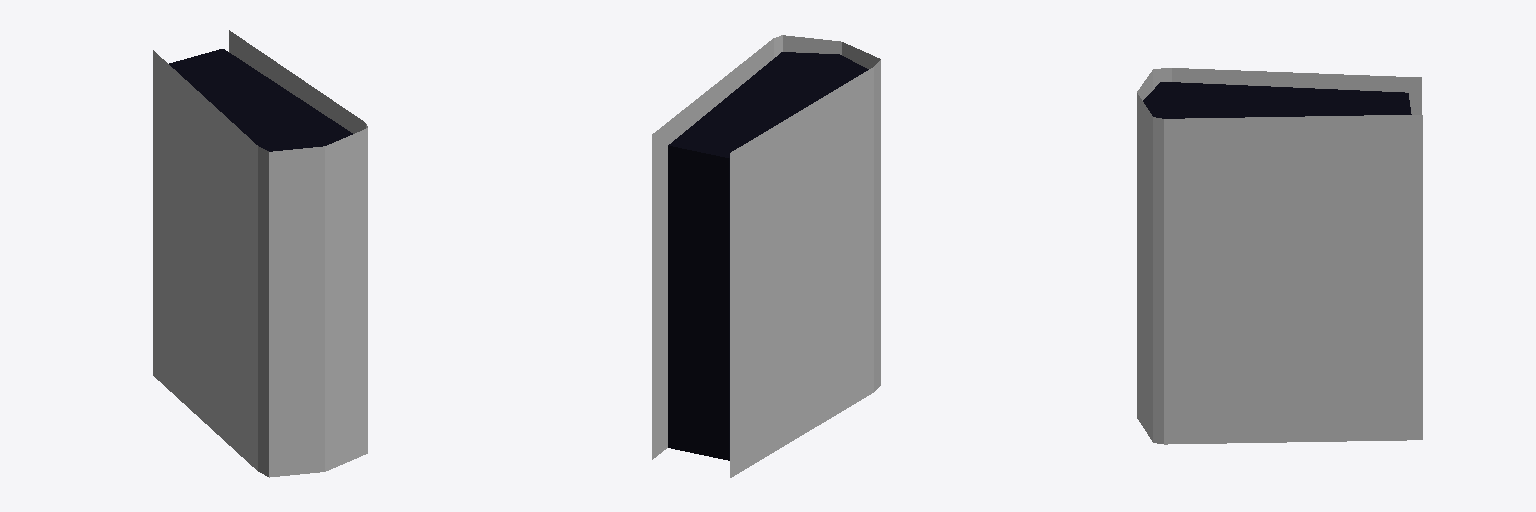
File: Book.obj
3 views of the same model, side by side, from view 1: azimuth 30°, elevation 25°; view 2: azimuth 150°, elevation 25°; view 3: azimuth 270°, elevation 25° (orthographic).
Visible parts, largest first — view 1: Book_Plane.001; view 2: Book_Plane.001; view 3: Book_Plane.001.
Boxes of the visible parts, x1=… form: Book_Plane.001: x1=153, y1=30, x2=367, y2=477; Book_Plane.001: x1=652, y1=35, x2=880, y2=477; Book_Plane.001: x1=1137, y1=68, x2=1422, y2=444.
Size of the model in its own units: 0.2387 by 0.7117 by 0.5661.